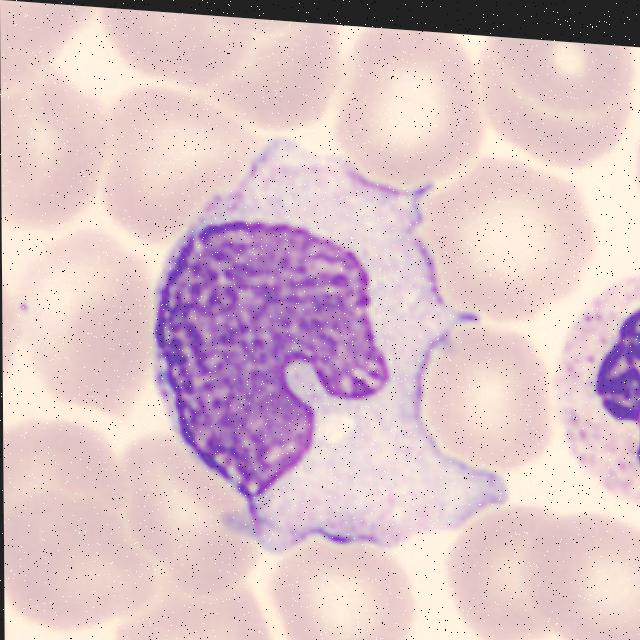monocyte: (141, 100, 524, 600)
rbc: (428, 161, 588, 325), (21, 222, 147, 430), (117, 429, 256, 599), (342, 32, 491, 188), (413, 312, 555, 472), (106, 82, 238, 248), (4, 499, 153, 638), (1, 73, 115, 249), (472, 56, 626, 186), (444, 504, 582, 640), (267, 533, 426, 640), (87, 7, 255, 103), (527, 506, 640, 640), (3, 408, 136, 521), (230, 17, 349, 130), (493, 37, 637, 129), (110, 590, 283, 640), (0, 0, 87, 99)
